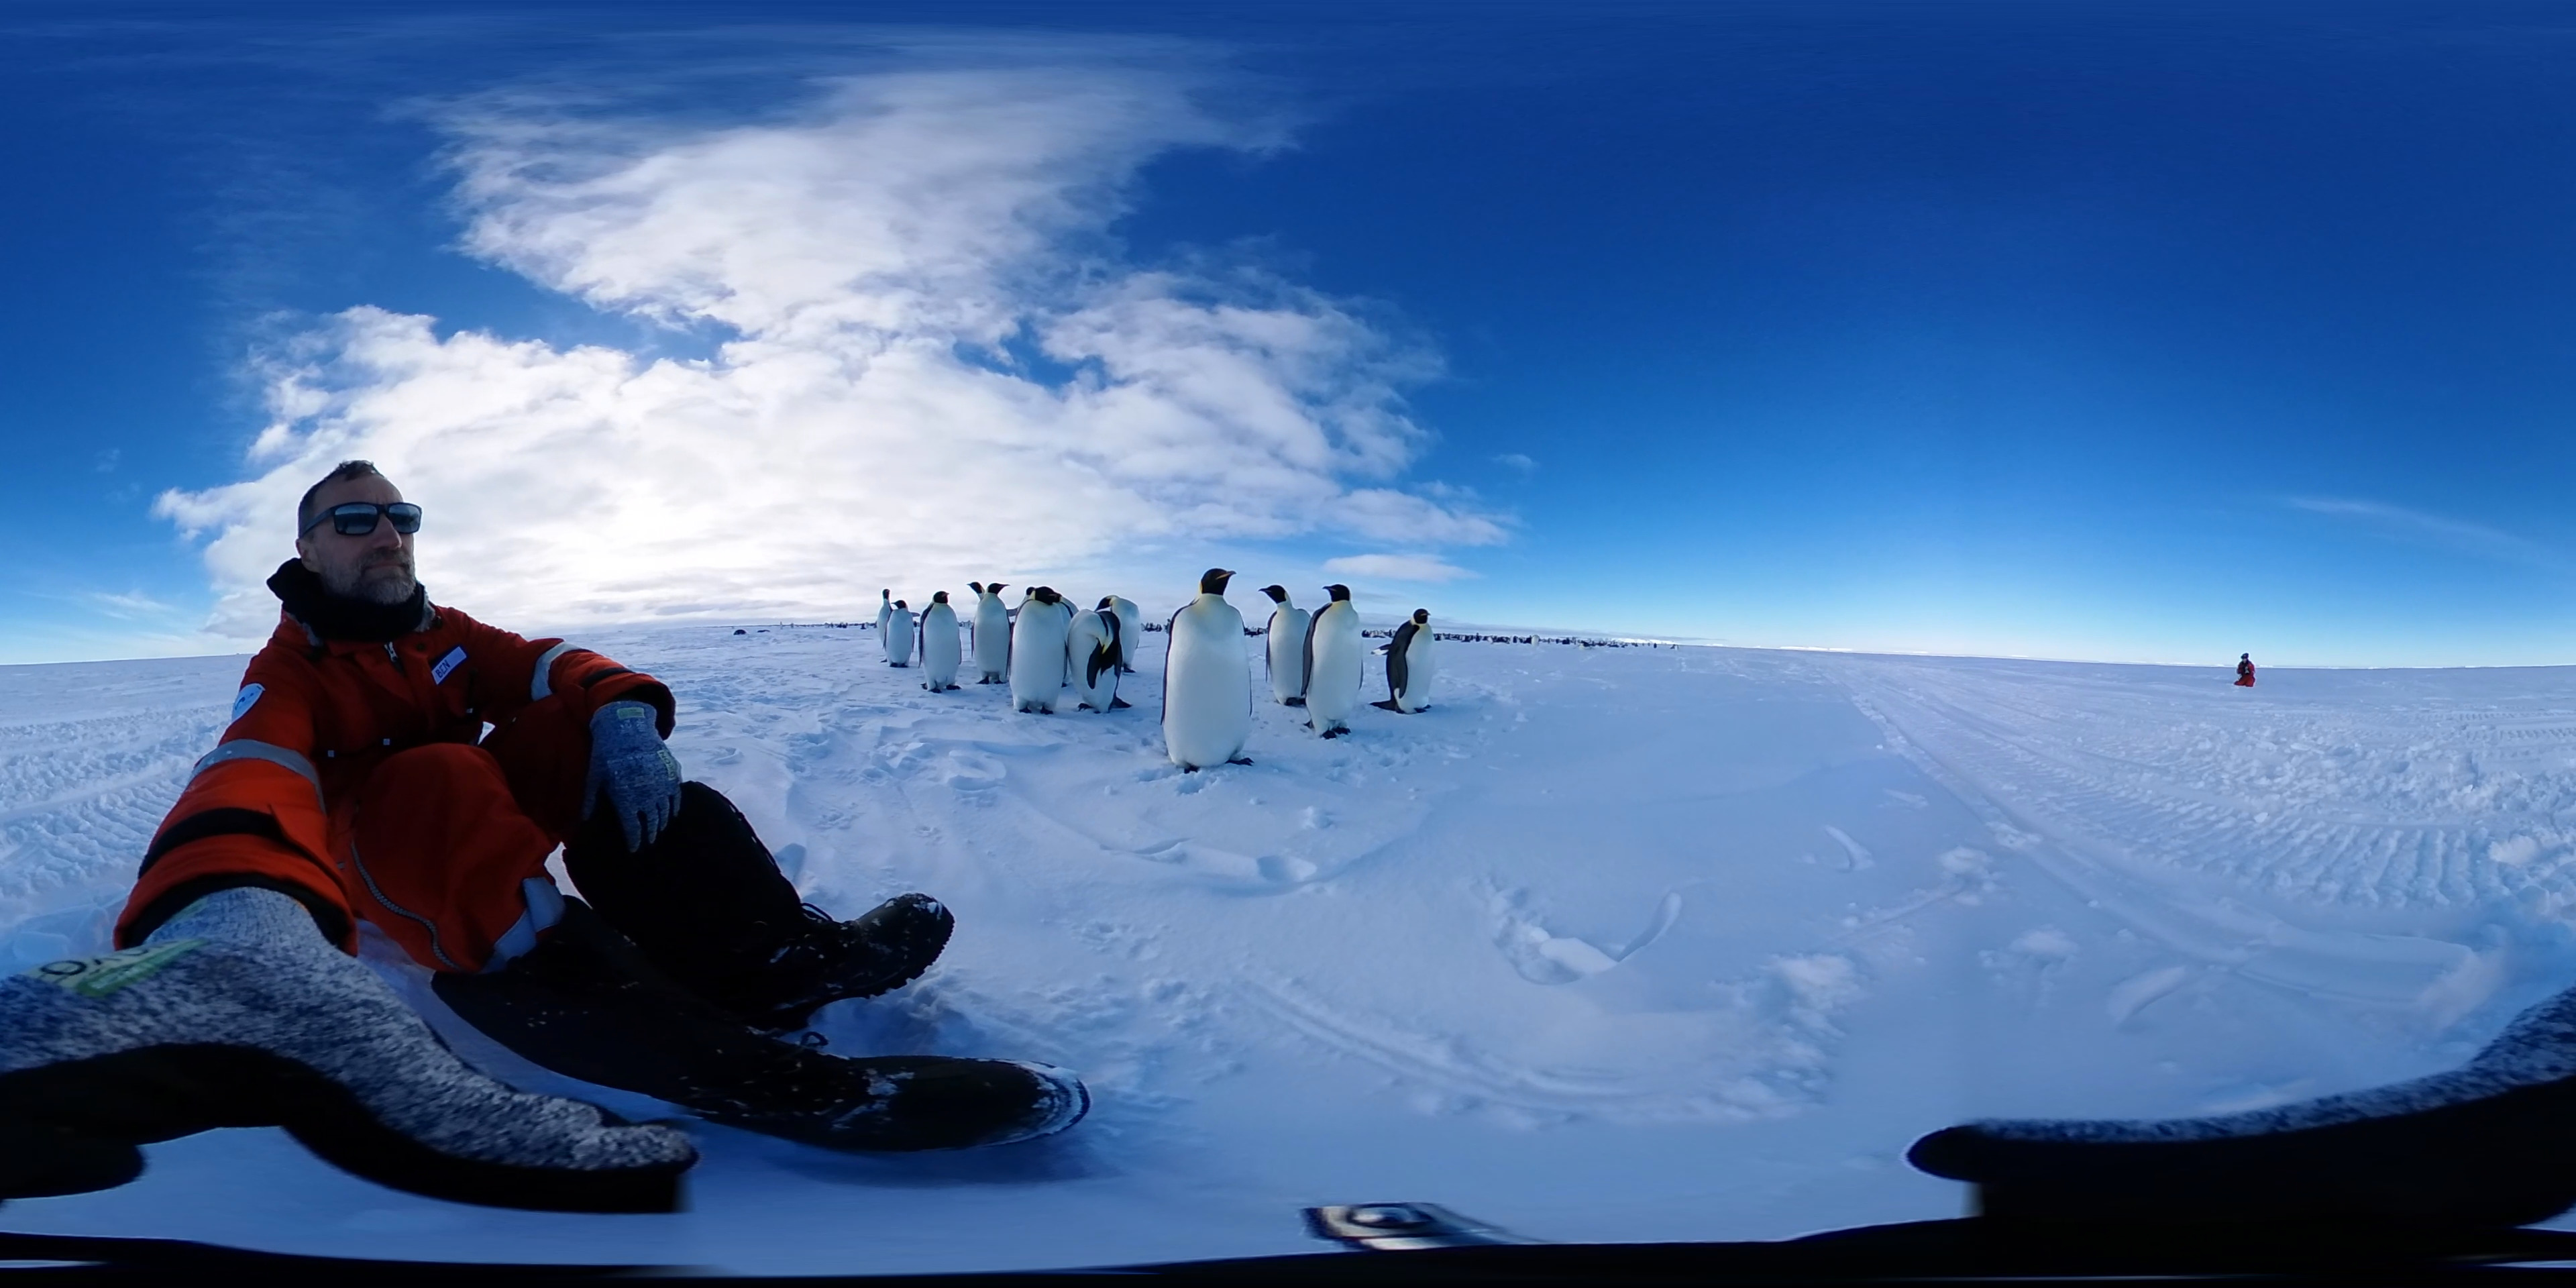adult_standing_penguin: (1153, 563, 1255, 775), (1299, 583, 1365, 749), (1250, 582, 1326, 711), (1362, 606, 1437, 721), (1005, 586, 1066, 716), (1068, 608, 1124, 718), (971, 580, 1014, 688), (917, 591, 959, 695), (1094, 591, 1145, 672), (882, 600, 918, 670), (874, 586, 899, 655)
researcher: (110, 455, 1092, 1160), (2228, 651, 2262, 688)
